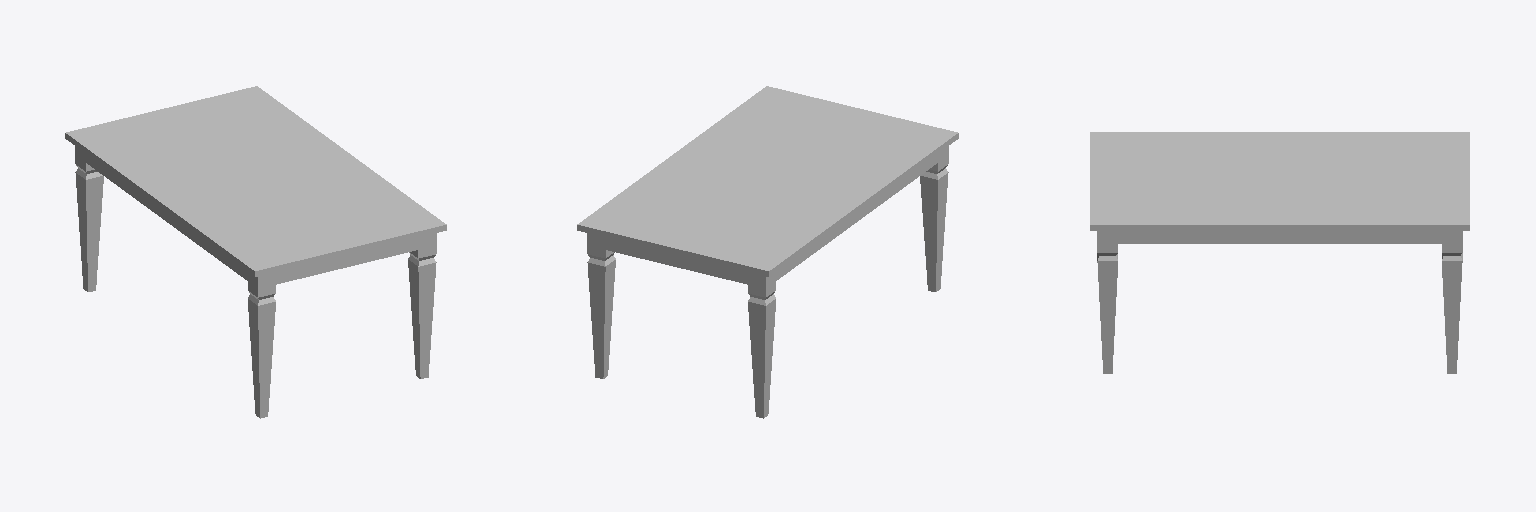
Rendered from home_table.obj.
3 renders of one model, left to right at view 1: azimuth 30°, elevation 25°; view 2: azimuth 150°, elevation 25°; view 3: azimuth 270°, elevation 25°, orthographic.
Parts seen in each view (by area): view 1: Furniture_Cabet_Table_0; view 2: Furniture_Cabet_Table_0; view 3: Furniture_Cabet_Table_0.
Part boxes in pixels (left/top/right/bottom): Furniture_Cabet_Table_0: left=65, top=86, right=446, bottom=418; Furniture_Cabet_Table_0: left=577, top=86, right=958, bottom=418; Furniture_Cabet_Table_0: left=1090, top=132, right=1469, bottom=373.
Size of the model in its own units: 0.0737 by 0.0568 by 0.1261.